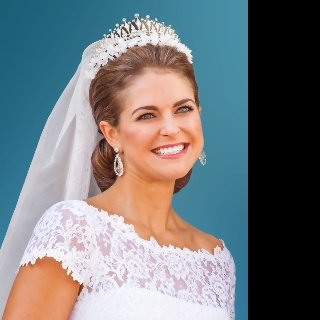without_mask: (119, 69, 204, 179)
